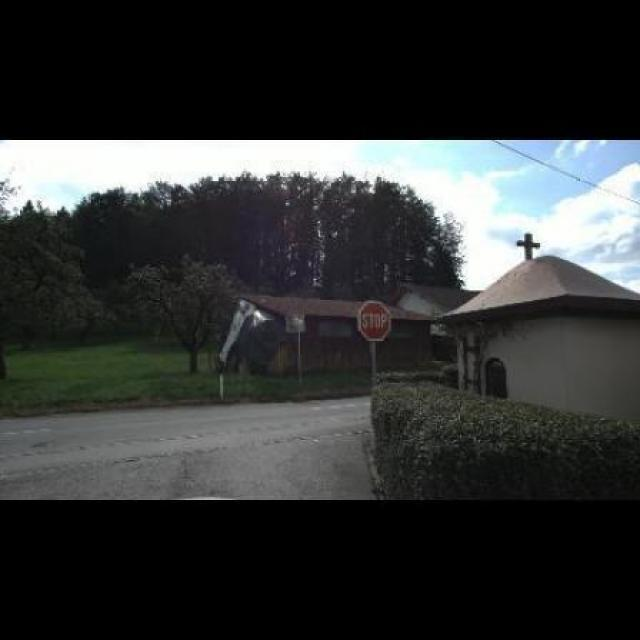Stop-Sign: (358, 300, 392, 341)
